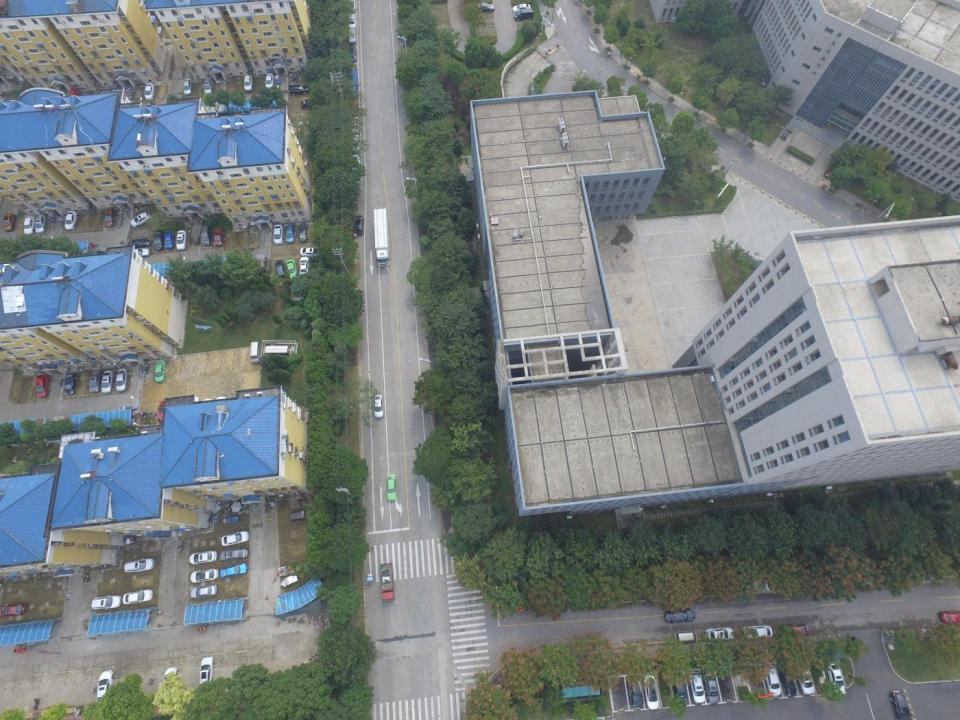car: (889, 690, 913, 720), (777, 662, 798, 696), (795, 662, 815, 696), (826, 660, 845, 695), (642, 674, 660, 710), (670, 671, 688, 707), (762, 664, 782, 696), (688, 669, 706, 704), (96, 668, 114, 702), (162, 666, 179, 702), (704, 669, 720, 705), (628, 674, 644, 708), (220, 530, 250, 546), (92, 594, 122, 610), (122, 589, 153, 604), (199, 656, 214, 687), (124, 557, 154, 572), (220, 562, 248, 578), (663, 608, 695, 622), (190, 568, 219, 583), (781, 622, 811, 636), (705, 627, 734, 641), (742, 625, 773, 638), (190, 584, 217, 598), (35, 374, 50, 399), (190, 551, 218, 564), (115, 368, 130, 392), (0, 604, 26, 617), (130, 212, 151, 228), (220, 548, 248, 560), (673, 630, 698, 643), (102, 370, 115, 394), (386, 473, 397, 501), (2, 212, 17, 232), (64, 210, 78, 231), (63, 373, 77, 394), (154, 359, 166, 383), (34, 214, 48, 234), (940, 610, 958, 625), (158, 400, 169, 424), (301, 99, 327, 109), (104, 207, 117, 227), (514, 8, 534, 21), (374, 394, 384, 419), (272, 223, 283, 245), (286, 259, 298, 279), (90, 372, 102, 392), (289, 84, 310, 95), (299, 256, 310, 277), (274, 259, 286, 278), (212, 227, 224, 246), (22, 216, 34, 235), (285, 224, 296, 244), (175, 230, 186, 250), (350, 155, 362, 173), (153, 230, 163, 251), (128, 238, 151, 247), (300, 247, 320, 257), (512, 3, 532, 13), (298, 224, 308, 243), (476, 2, 495, 12), (144, 82, 154, 100), (350, 135, 360, 153), (355, 216, 364, 236), (164, 232, 174, 250), (130, 248, 150, 257), (182, 78, 193, 94), (243, 75, 254, 91), (350, 178, 361, 194), (203, 78, 213, 94), (264, 73, 274, 89), (347, 28, 357, 44), (350, 118, 360, 134), (347, 14, 356, 30), (68, 87, 79, 100), (347, 0, 357, 14), (348, 45, 356, 62)
truck: (373, 208, 390, 267), (380, 562, 395, 602), (346, 71, 359, 109)
van: (200, 224, 213, 247), (250, 341, 261, 363), (290, 510, 312, 521)
